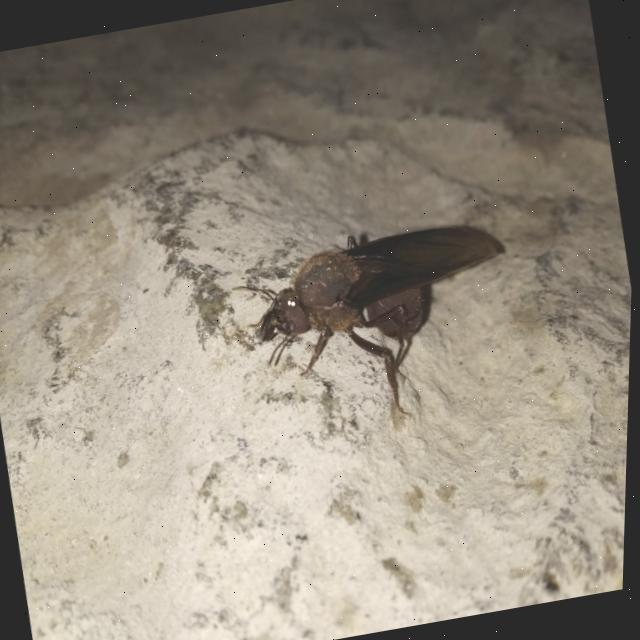Alive-Female-Alate: (223, 208, 536, 448)
